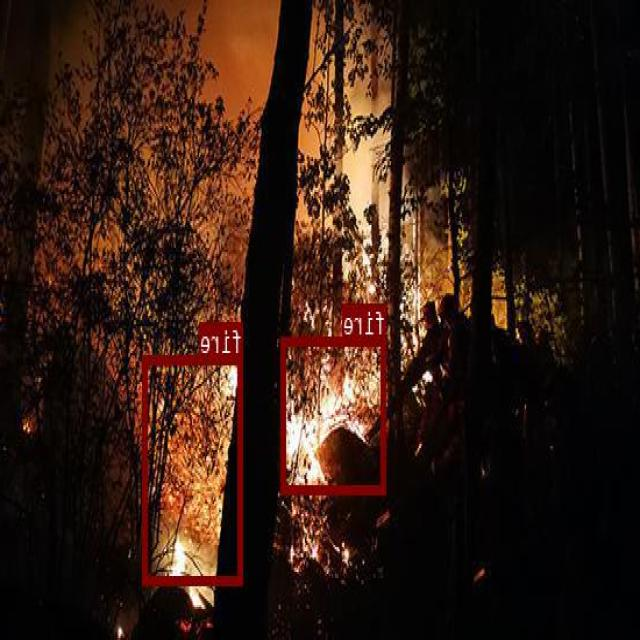fire: (144, 353, 244, 583), (282, 334, 387, 492)
